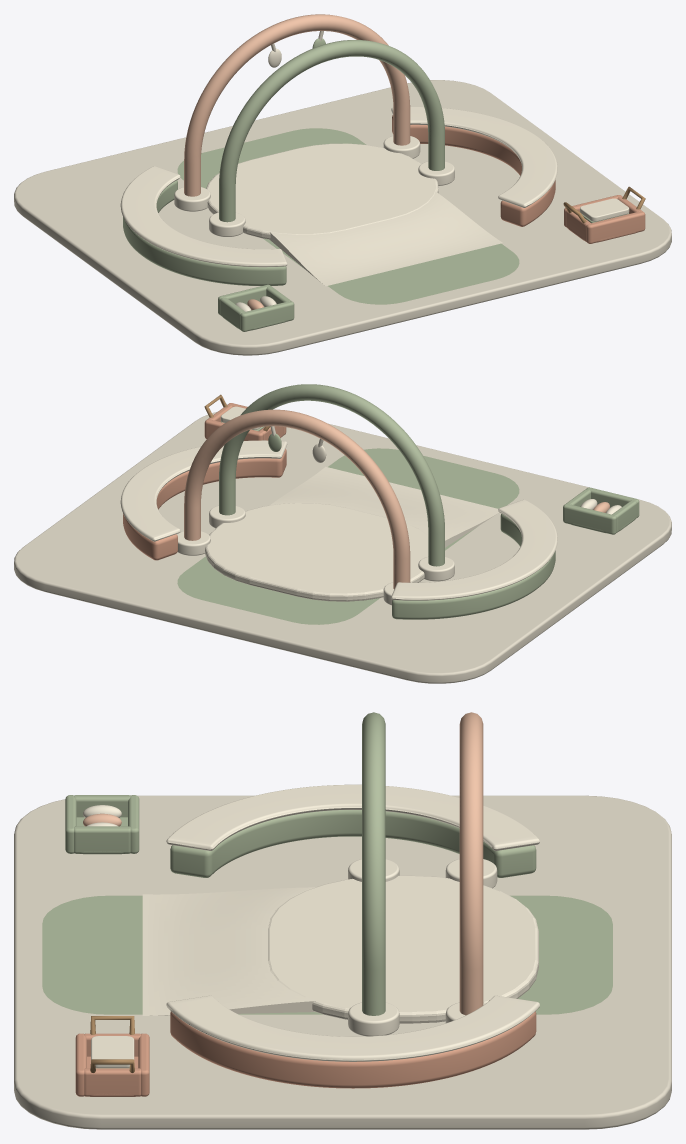
The model's file is welcome_station.glb.
3 views of the same model, one above another, from view 1: azimuth 30°, elevation 25°; view 2: azimuth 150°, elevation 25°; view 3: azimuth 270°, elevation 25° (orthographic). The views are drawn at different scales.
Visible parts, largest first — view 1: Welcome_cream_plinth, Low_greeting_platform_with_continuous_ramp, Arrival_sage_path, Front_friendly_sage_arch, Rear_friendly_peach_arch, Left_cream_arc_seat, Right_cream_arc_seat, Left_low_welcome_arc, Right_low_welcome_arc, Welcome_supply_basket_front, Second_small_welcome_basket_front, Folded_welcome_blanket_2 (+5 smaller); view 2: Welcome_cream_plinth, Low_greeting_platform_with_continuous_ramp, Arrival_sage_path, Rear_friendly_peach_arch, Front_friendly_sage_arch, Left_cream_arc_seat, Right_cream_arc_seat, Left_low_welcome_arc, Right_low_welcome_arc, Second_small_welcome_basket_back, Arch_soft_foot, Arch_soft_foot.003 (+2 smaller); view 3: Welcome_cream_plinth, Low_greeting_platform_with_continuous_ramp, Arrival_sage_path, Right_cream_arc_seat, Right_low_welcome_arc, Left_cream_arc_seat, Left_low_welcome_arc, Rear_friendly_peach_arch, Front_friendly_sage_arch, Welcome_supply_basket_right, Second_small_welcome_basket_right, Arch_soft_foot.002 (+6 smaller).
Part boxes in pixels (x1,y1,x2,y2): Welcome_cream_plinth: (14,80,671,355); Low_greeting_platform_with_continuous_ramp: (206,143,502,286); Arrival_sage_path: (177,128,519,304); Front_friendly_sage_arch: (219,40,444,222); Rear_friendly_peach_arch: (184,14,410,196); Left_cream_arc_seat: (120,166,287,267); Right_cream_arc_seat: (391,107,557,207); Left_low_welcome_arc: (123,180,286,285); Right_low_welcome_arc: (392,115,555,226); Welcome_supply_basket_front: (586,211,645,243); Second_small_welcome_basket_front: (240,301,294,331); Folded_welcome_blanket_2: (580,198,629,221); Welcome_cream_plinth: (14,412,671,683); Low_greeting_platform_with_continuous_ramp: (205,466,498,601); Arrival_sage_path: (177,448,519,624); Rear_friendly_peach_arch: (184,409,410,589); Front_friendly_sage_arch: (219,384,444,566); Left_cream_arc_seat: (391,499,557,600); Right_cream_arc_seat: (120,440,287,541); Left_low_welcome_arc: (392,514,555,619); Right_low_welcome_arc: (123,449,286,560); Second_small_welcome_basket_back: (563,504,616,534); Arch_soft_foot: (418,557,454,581); Arch_soft_foot.003: (177,531,210,555); Welcome_cream_plinth: (14,795,671,1129); Low_greeting_platform_with_continuous_ramp: (142,875,538,1023); Arrival_sage_path: (42,895,612,1014); Right_cream_arc_seat: (166,995,539,1061); Right_low_welcome_arc: (170,1011,536,1088); Left_cream_arc_seat: (166,784,539,850); Left_low_welcome_arc: (170,810,536,877); Rear_friendly_peach_arch: (459,712,483,1015); Front_friendly_sage_arch: (362,712,385,1015); Welcome_supply_basket_right: (84,1068,140,1096); Second_small_welcome_basket_right: (74,826,130,853); Arch_soft_foot.002: (348,1002,399,1036).
Size of the model in its own units: 7.4 by 2.59 by 6.4.
